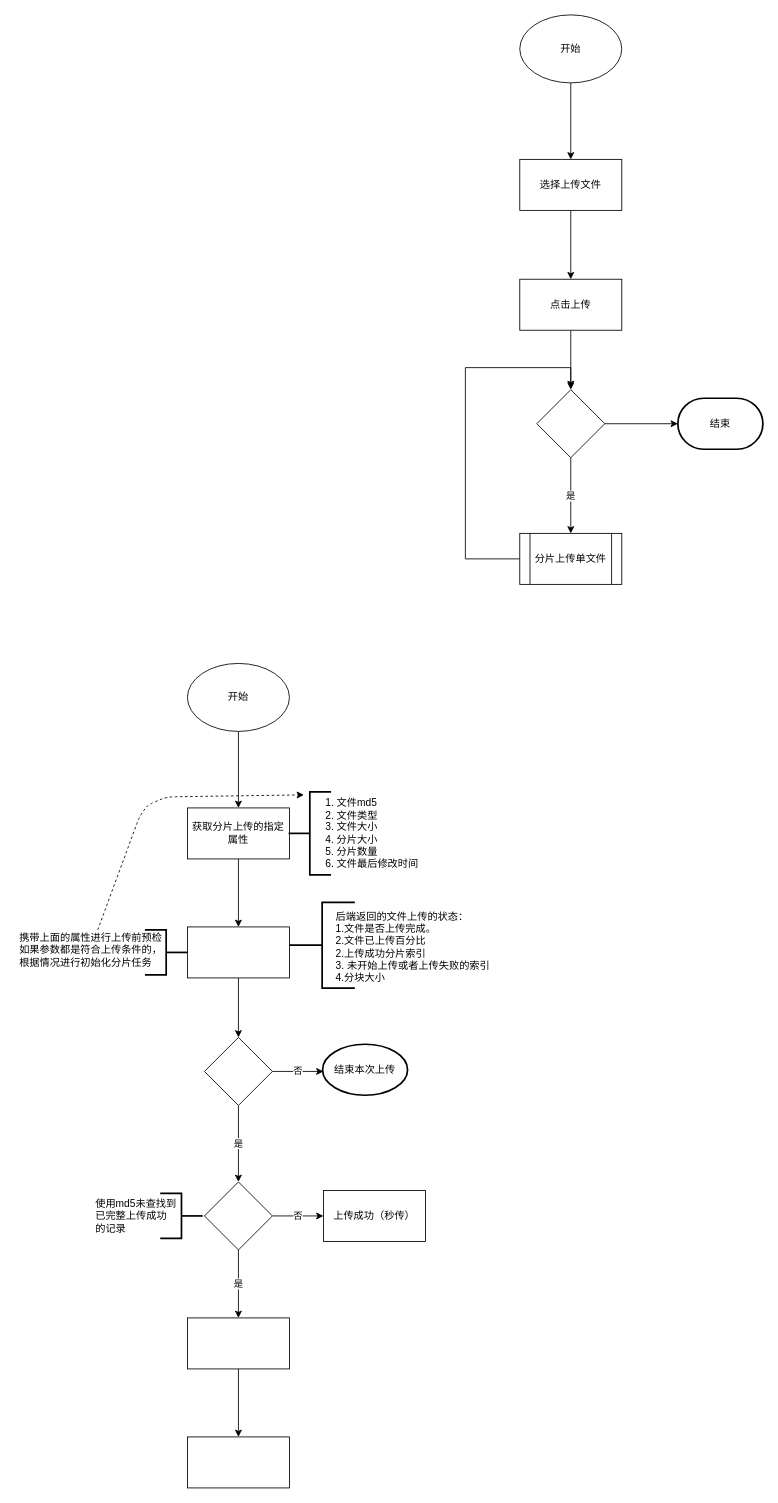
This 778x1503 diagram has some shape labels left out. Each missing label, with the centre of its shape:
"下标未越界" belongs at [570,423].
"响应是否是成功" belongs at [238,1071].
"文件未上传完成" belongs at [238,1215].
"调用接口进行预检" belongs at [238,952].
